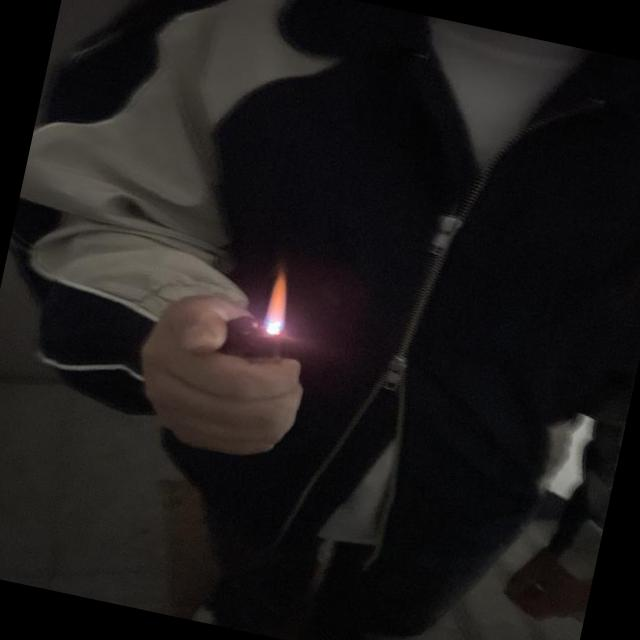Fire: (260, 270, 298, 330)
